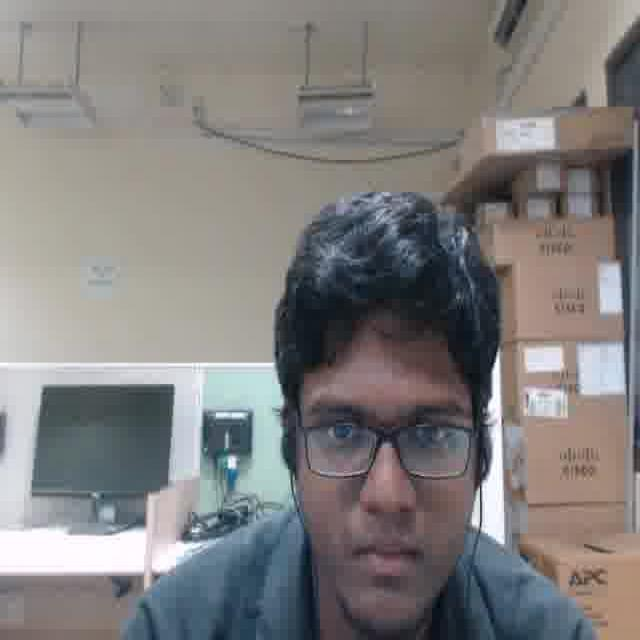Engaged: (296, 321, 473, 623)
